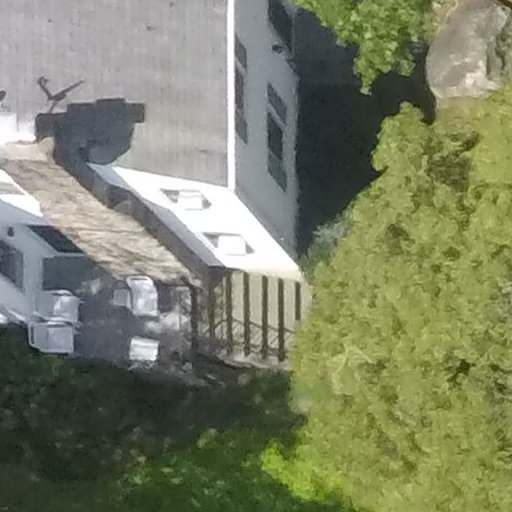chair: (33, 286, 87, 325), (26, 323, 79, 357), (127, 272, 161, 323)
porch: (25, 265, 198, 387)
